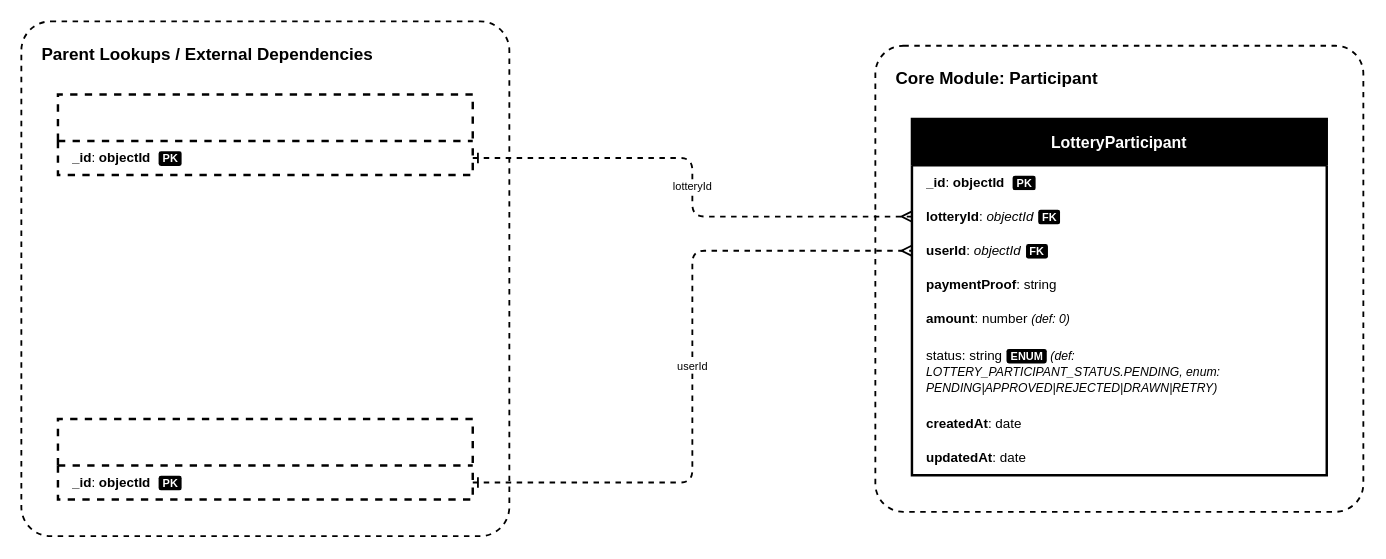
Some shapes in this 1386 by 559 pixel diagram are drawn without their labels. The shapes that lost their labels are listed below. From the top down, each one's box as (x1, y1, x2, y2) in pixels, then its label:
(56, 93, 473, 176): Lottery
(56, 417, 473, 500): User
